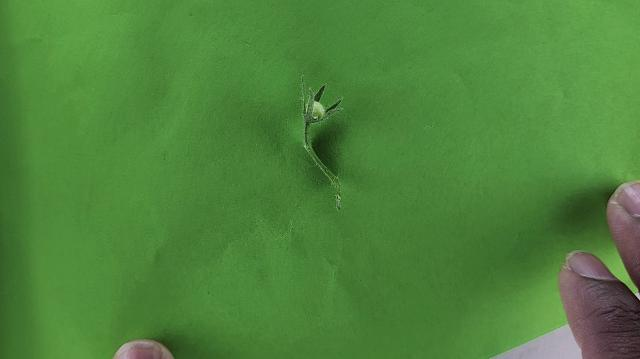Fruit Bud: (304, 81, 344, 124)
